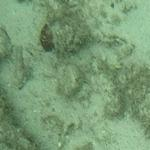dead: (6, 6, 144, 148)
